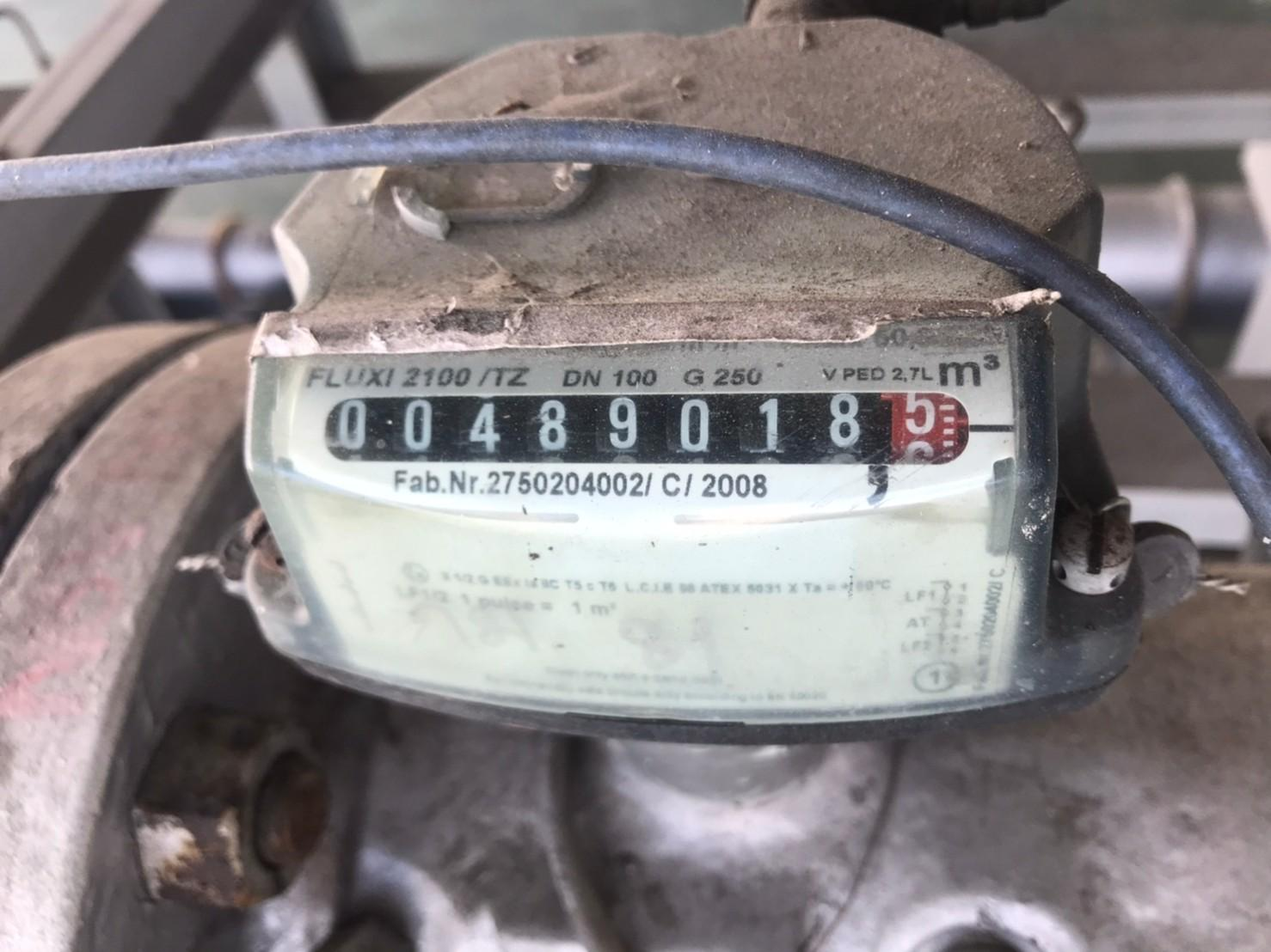analog_dial: (316, 376, 1014, 478)
